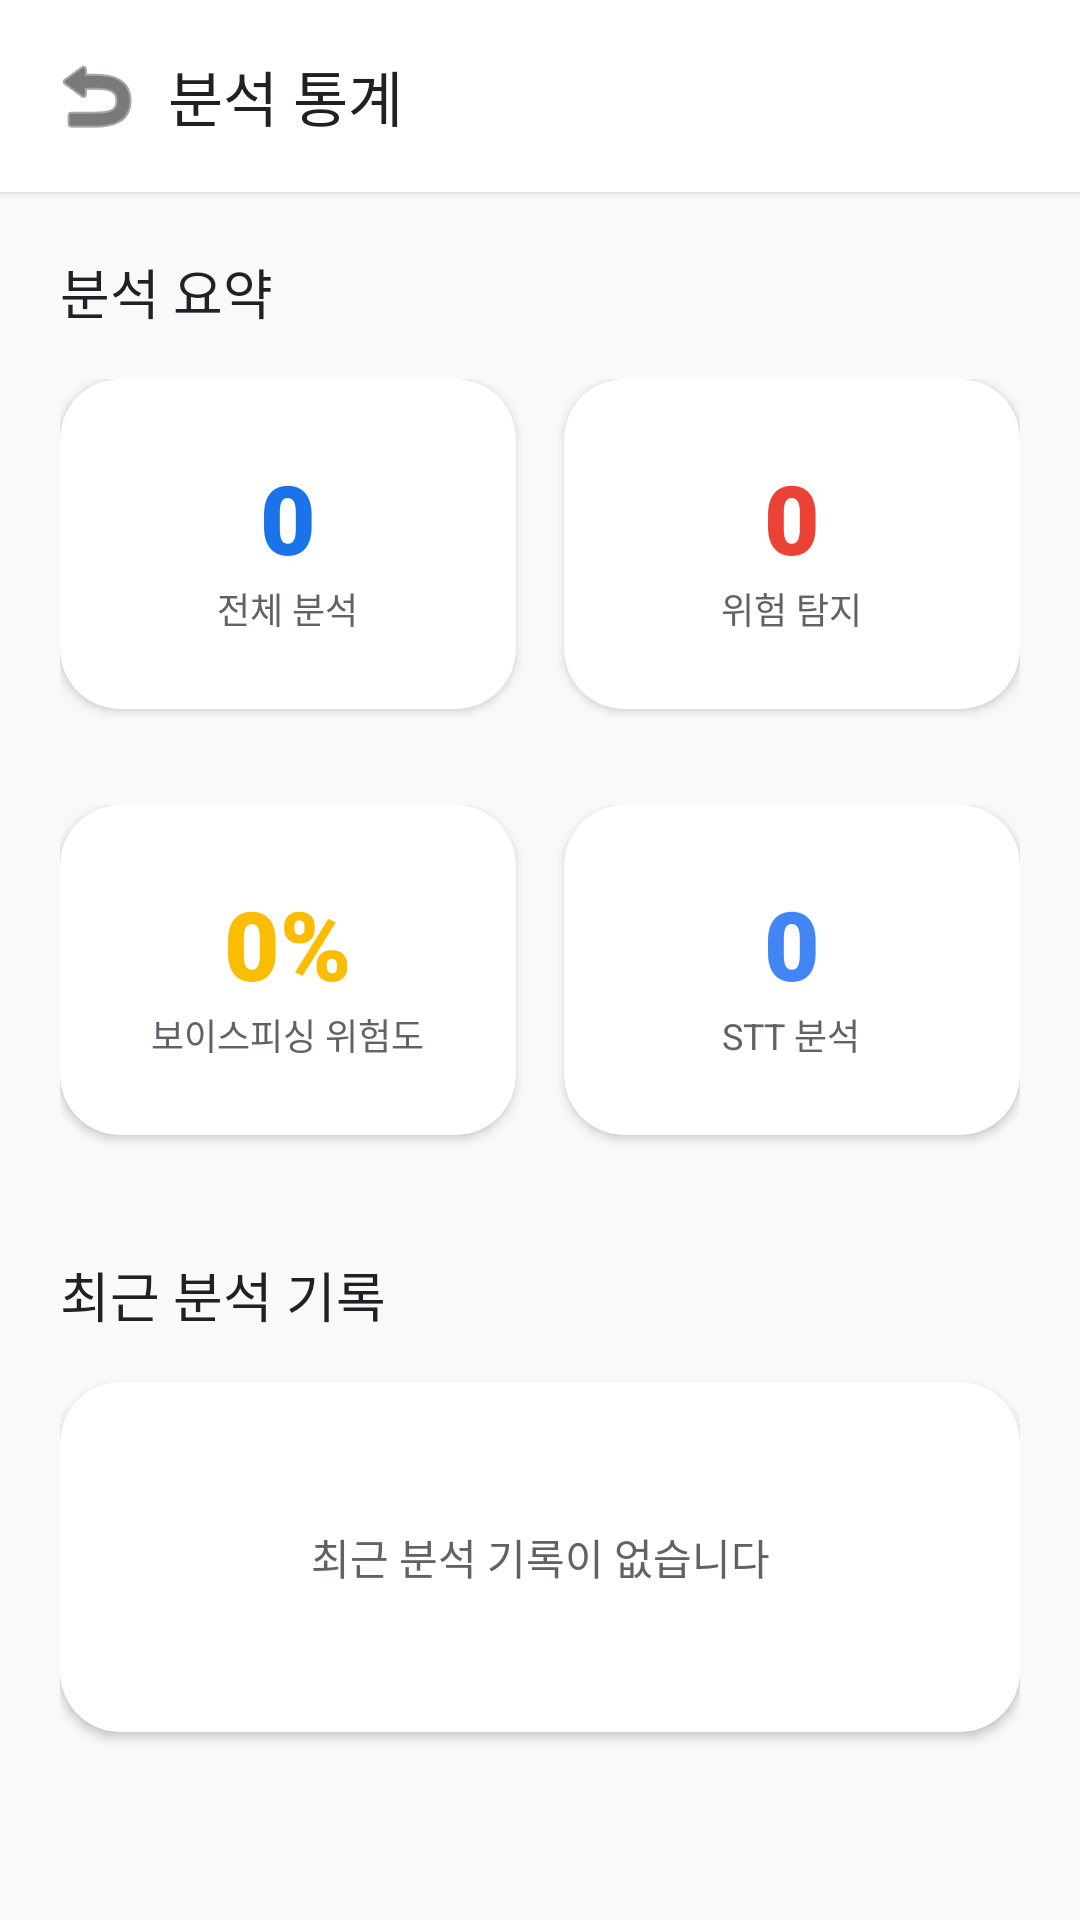

Named icons in this screenshot (1080px×1920px) and their bounding boxes, (x1, y1, x2, y2):
이동: (63, 65, 132, 128)
